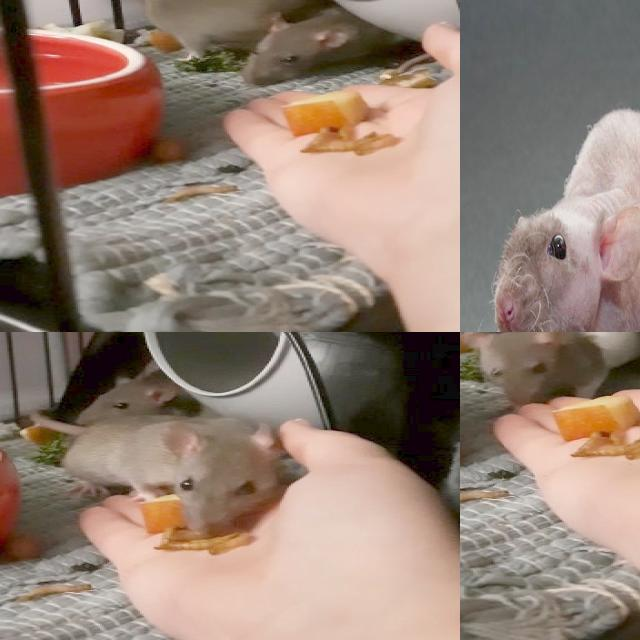rat: (492, 104, 640, 332), (64, 414, 288, 543), (240, 1, 426, 84), (460, 332, 640, 406), (111, 0, 324, 61), (79, 370, 178, 431)
